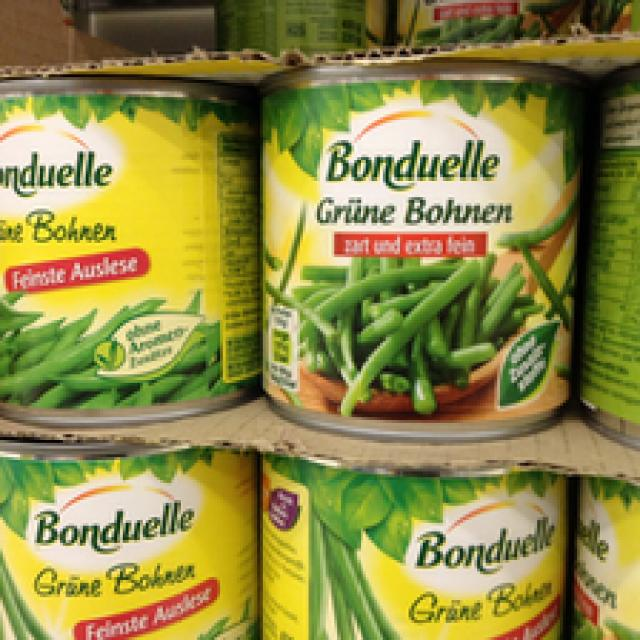groceries: (260, 72, 571, 434), (0, 80, 240, 420), (254, 449, 563, 637), (0, 437, 243, 637)
